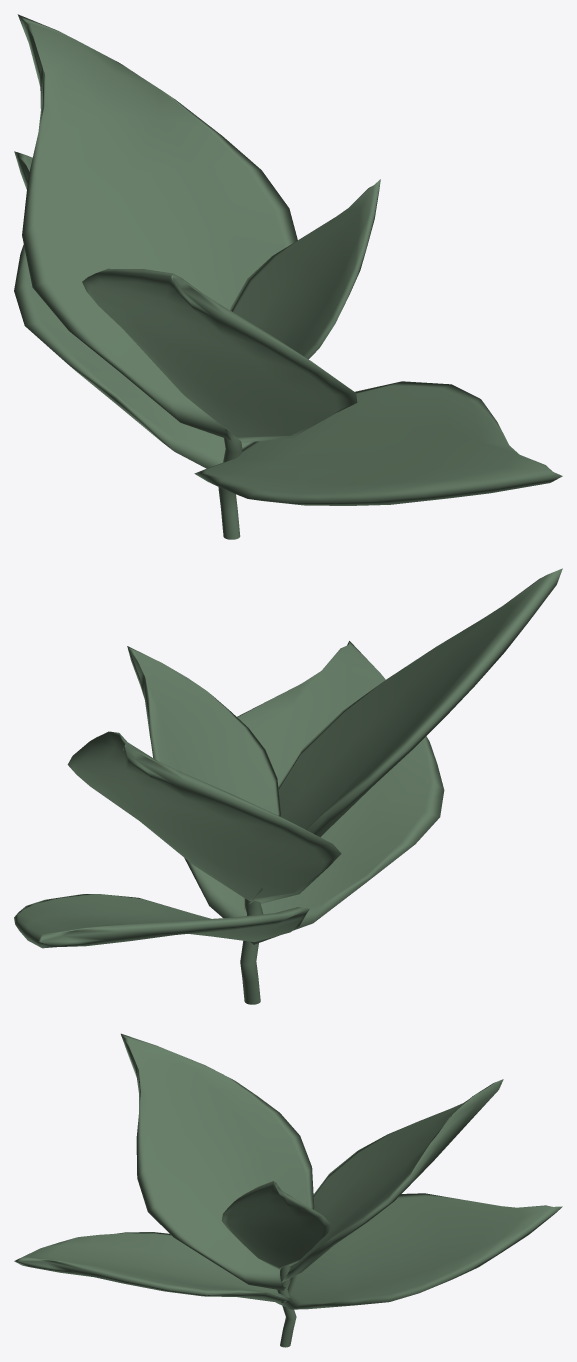
File: couve.fbx
3 views of the same model, one above another, from view 1: azimuth 30°, elevation 25°; view 2: azimuth 150°, elevation 25°; view 3: azimuth 270°, elevation 25° (orthographic). The views are drawn at different scales.
Parts seen in each view (by area): view 1: pCube2, pCube9, pCube11, pCube3, pCube10, pCylinder1; view 2: pCube9, pCube11, pCube2, pCube3, pCube10, pCylinder1; view 3: pCube11, pCube10, pCube2, pCube9, pCube3, pCylinder1.
Boxes of the visible parts, x1=… form: pCube2: x1=17, y1=14, x2=297, y2=439; pCube9: x1=194, y1=381, x2=562, y2=505; pCube11: x1=82, y1=268, x2=357, y2=442; pCube3: x1=230, y1=179, x2=380, y2=359; pCube10: x1=14, y1=151, x2=251, y2=468; pCylinder1: x1=218, y1=429, x2=242, y2=539; pCube9: x1=184, y1=641, x2=444, y2=944; pCube11: x1=244, y1=568, x2=562, y2=909; pCube2: x1=67, y1=731, x2=341, y2=903; pCube3: x1=127, y1=646, x2=280, y2=816; pCube10: x1=14, y1=894, x2=309, y2=948; pCylinder1: x1=240, y1=898, x2=263, y2=1004; pCube11: x1=121, y1=1033, x2=314, y2=1290; pCube10: x1=276, y1=1193, x2=562, y2=1309; pCube2: x1=281, y1=1079, x2=503, y2=1282; pCube9: x1=14, y1=1232, x2=292, y2=1302; pCube3: x1=221, y1=1181, x2=331, y2=1270; pCylinder1: x1=277, y1=1265, x2=296, y2=1347.
Size of the model in its own units: 0.7308 by 0.8036 by 1.57.
